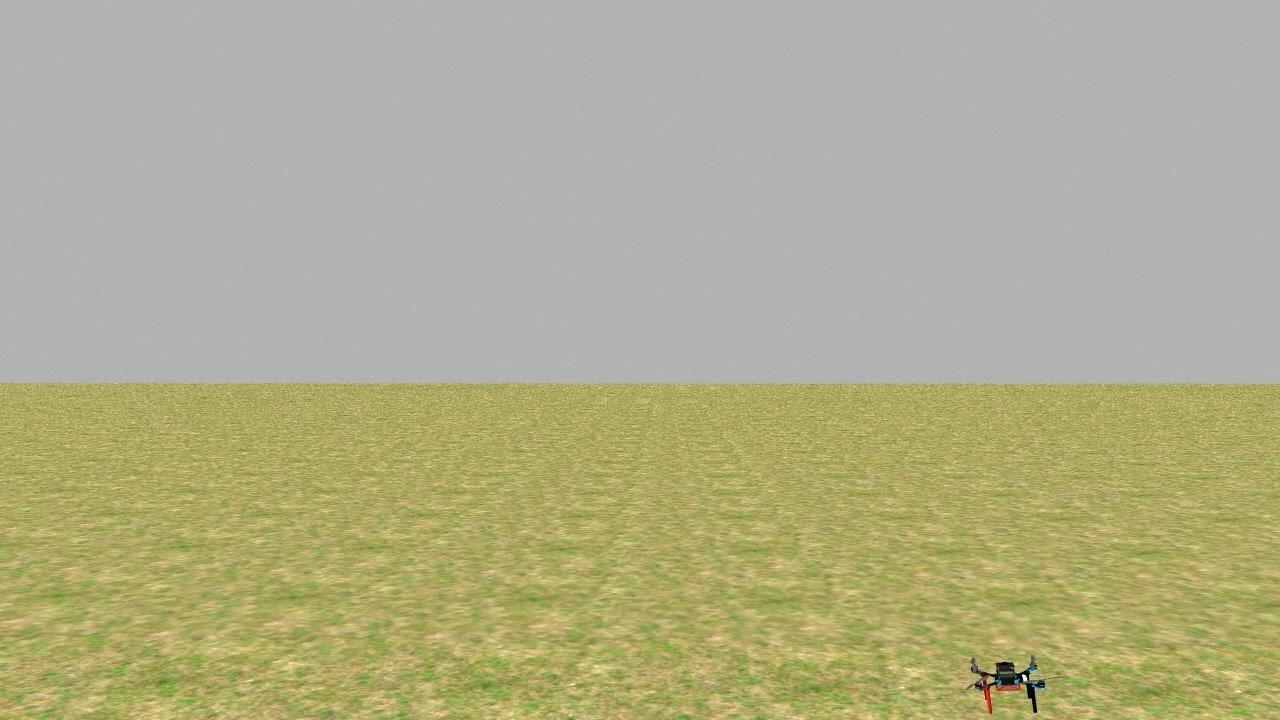UAV: (960, 635, 1056, 720)
